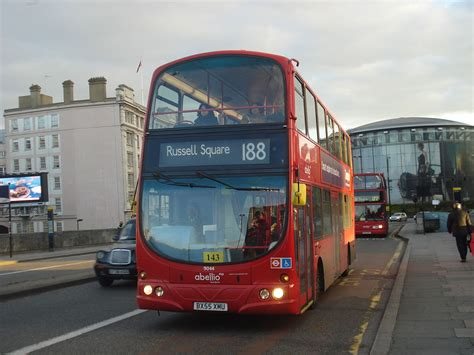bus: (141, 55, 356, 315), (353, 173, 389, 238)
car: (98, 217, 135, 283), (390, 212, 407, 222)
person: (447, 201, 471, 264)
